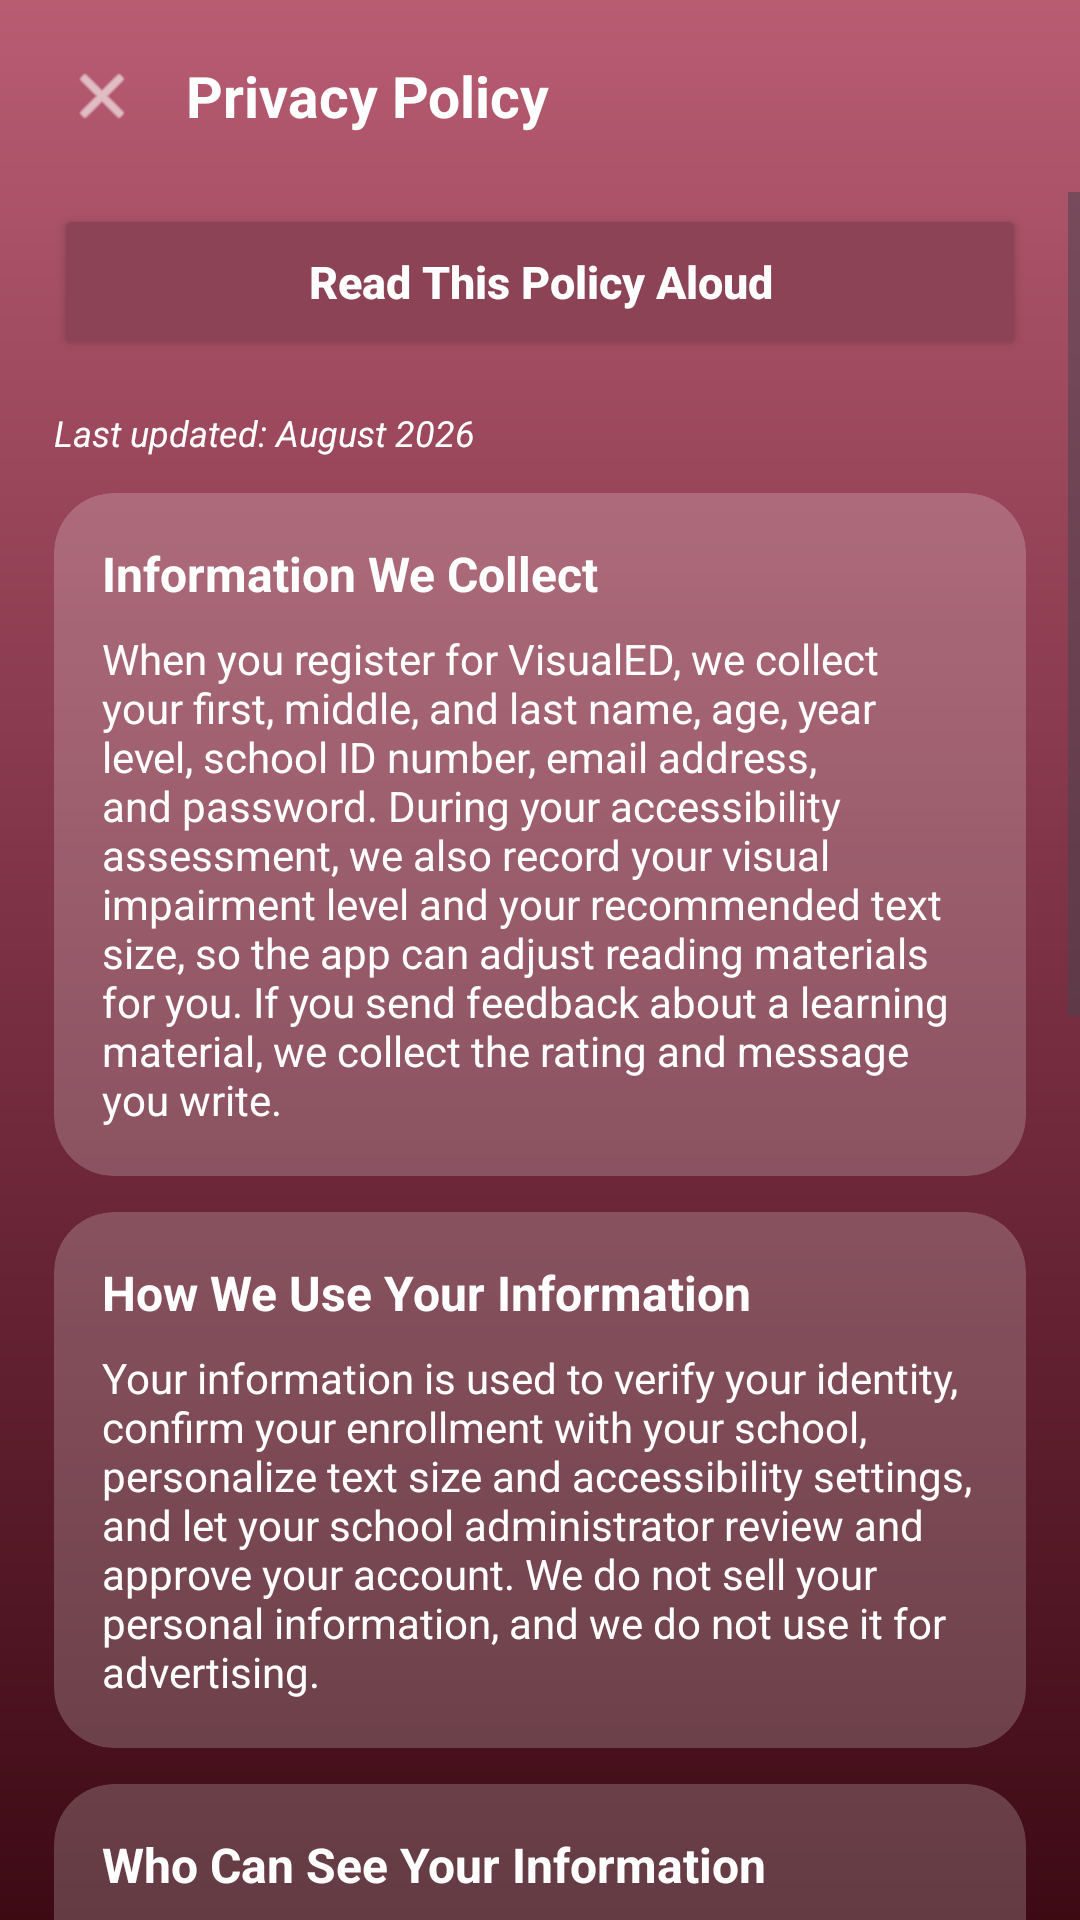

Icons on this 1080x1920 Android screen, each with its box as (x1, y1, x2, y2):
Close: (80, 73, 124, 118)
